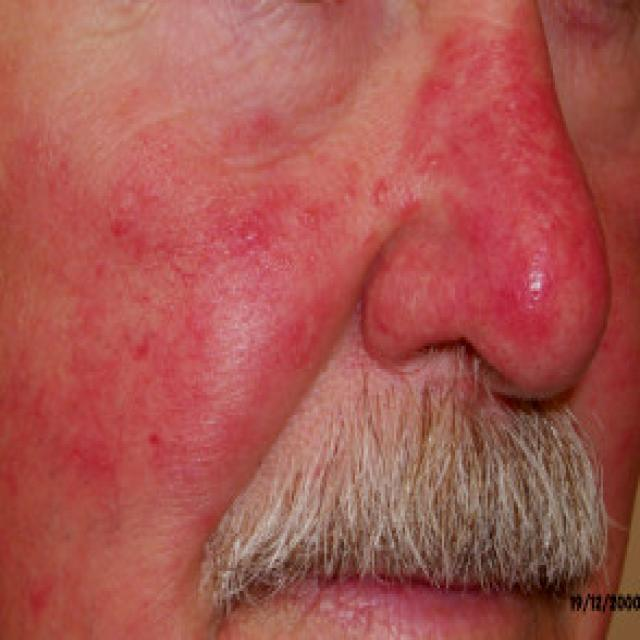Rosacea: (0, 117, 374, 636), (385, 28, 608, 390)
